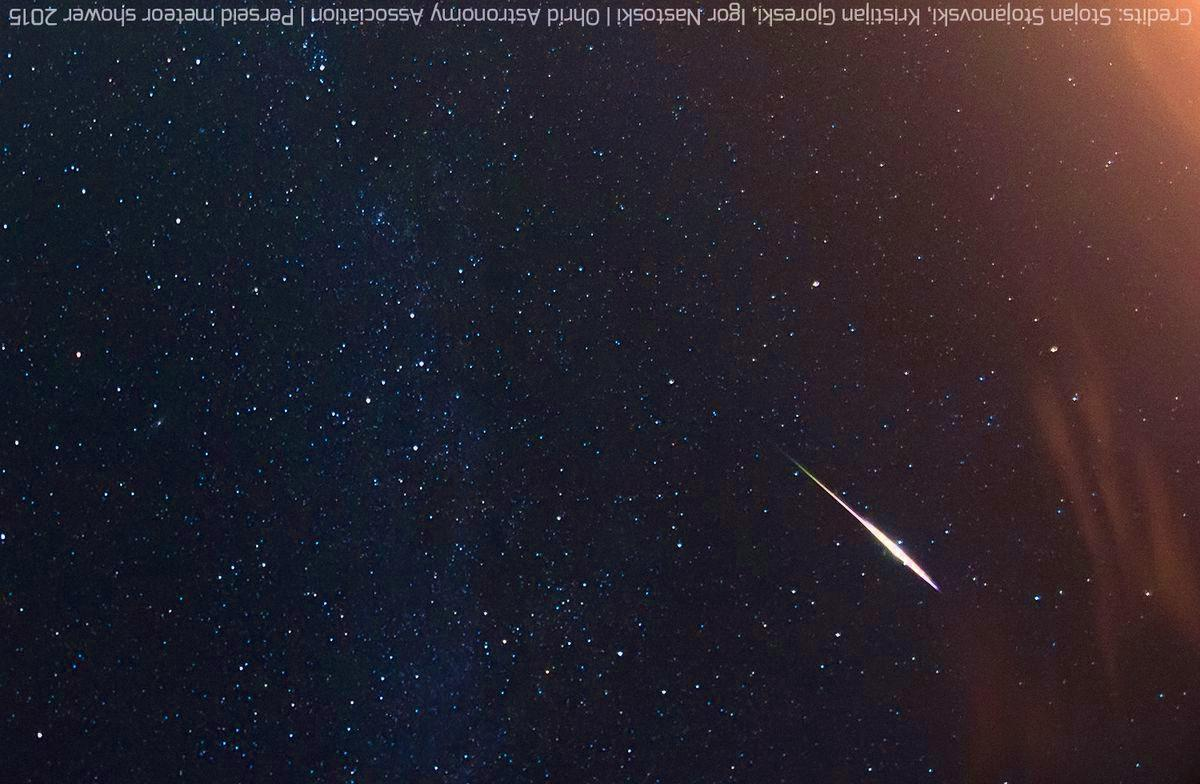meteorite: (747, 439, 963, 610)
